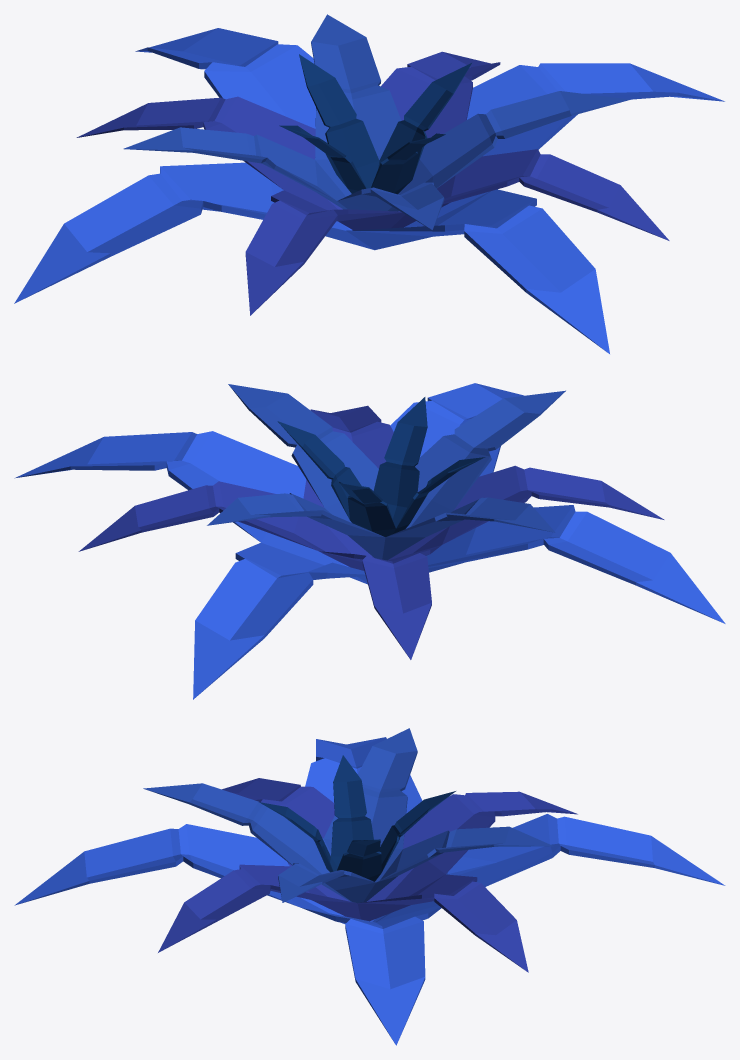
Rendered from Plant004.fbx.
3 renders of one model, top to bottom at view 1: azimuth 30°, elevation 25°; view 2: azimuth 150°, elevation 25°; view 3: azimuth 270°, elevation 25°, orthographic. The views are drawn at different scales.
Visible parts, largest first — view 1: Plant004; view 2: Plant004; view 3: Plant004.
Part boxes in pixels (x1=…): Plant004: x1=14, y1=14, x2=724, y2=353; Plant004: x1=14, y1=383, x2=725, y2=699; Plant004: x1=14, y1=728, x2=725, y2=1045.
Size of the model in its own units: 2.86 by 0.5866 by 2.86.
